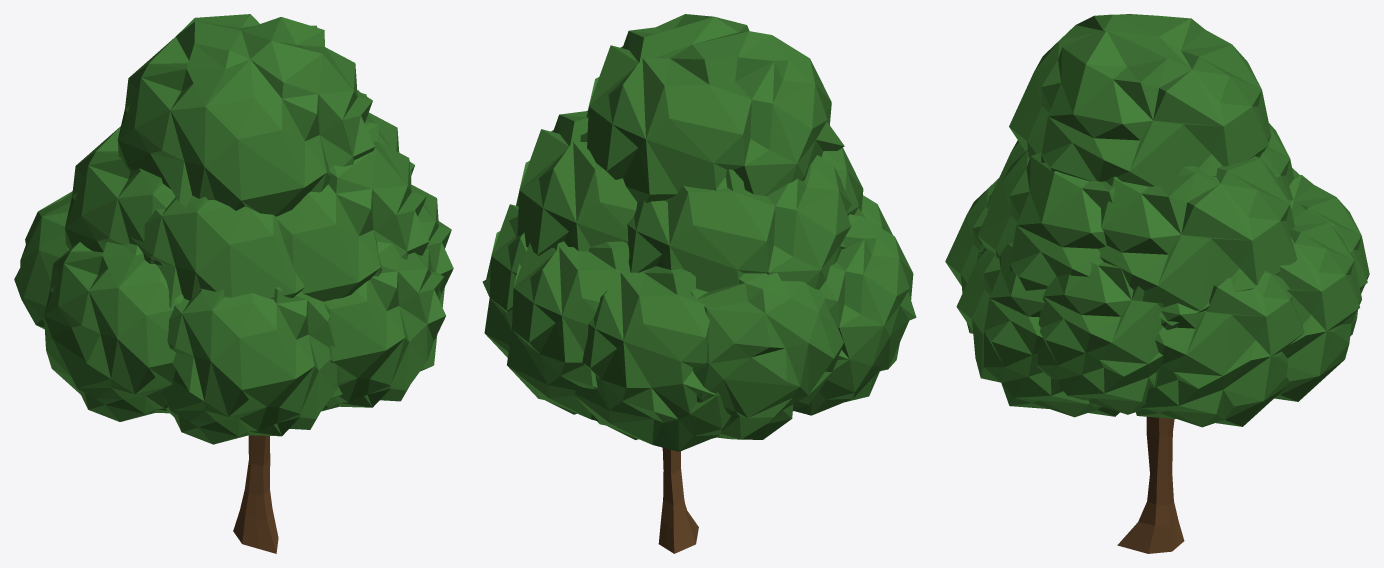
File: folliage8.glb
3 views of the same model, side by side, from view 1: azimuth 30°, elevation 25°; view 2: azimuth 150°, elevation 25°; view 3: azimuth 270°, elevation 25° (orthographic). The views are drawn at different scales.
Visible parts, largest first — view 1: LowPoly Tree 07.020; view 2: LowPoly Tree 07.020; view 3: LowPoly Tree 07.020.
Boxes of the visible parts, x1,y1,x2,y2 form: LowPoly Tree 07.020: (14, 14, 453, 553); LowPoly Tree 07.020: (482, 14, 916, 553); LowPoly Tree 07.020: (945, 14, 1369, 553).
Size of the model in its own units: 1.45 by 1.9 by 1.44.
